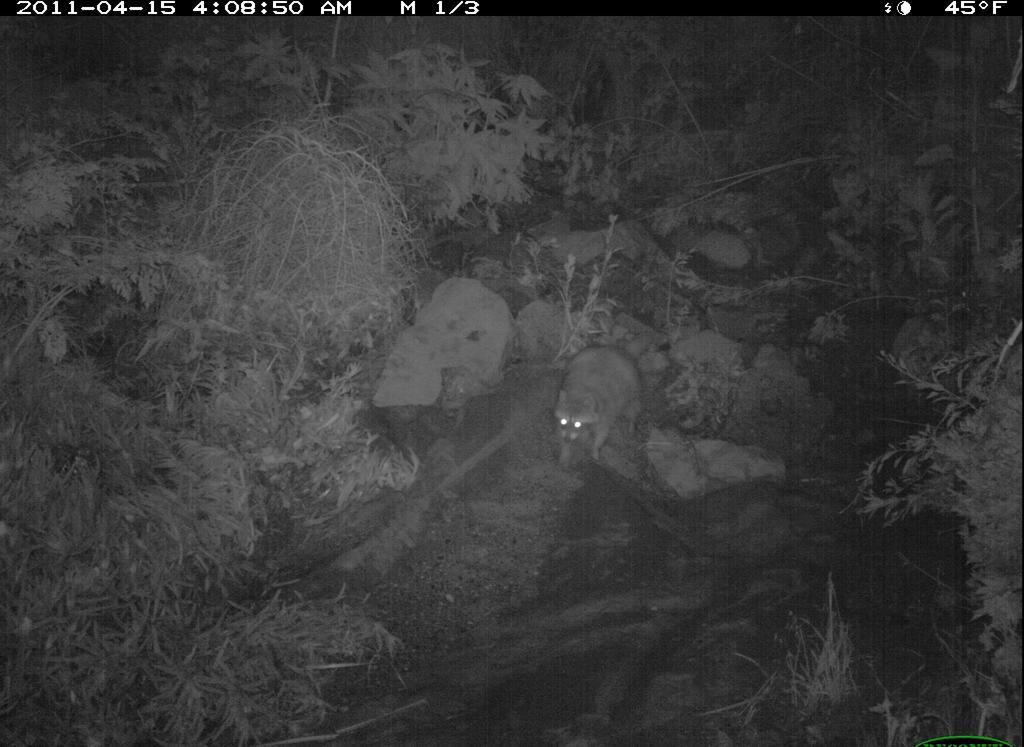raccoon: (545, 337, 660, 482)
